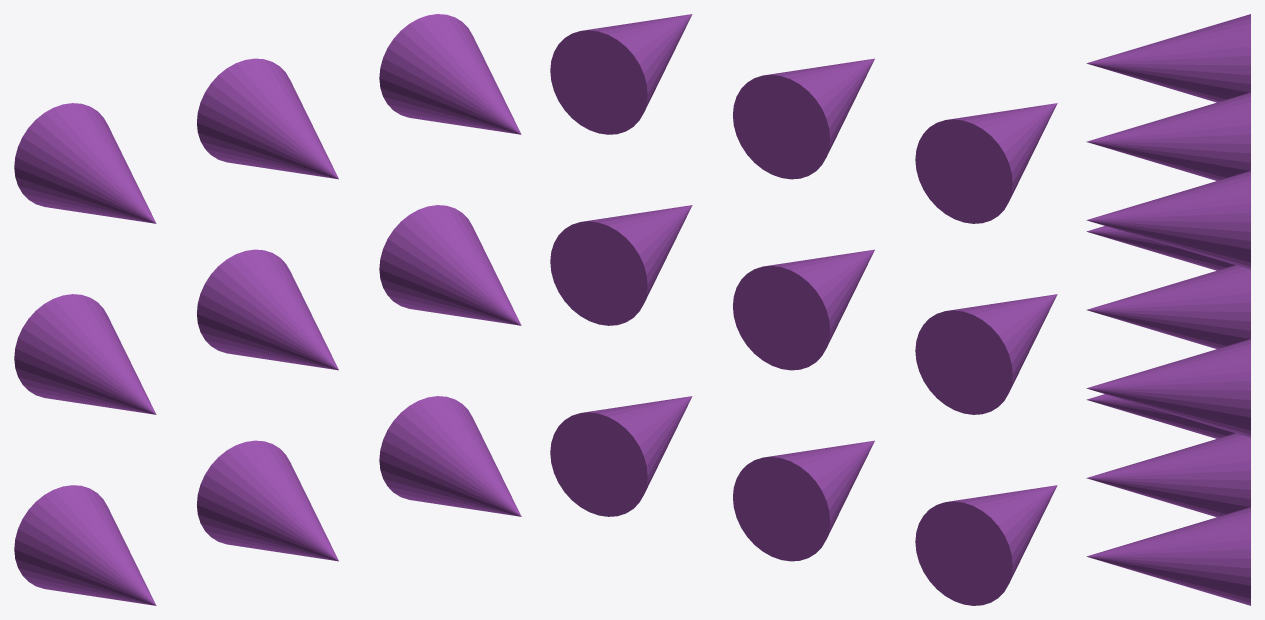
Rendered from brinjal_grid.glb.
3 views of the same model, side by side, from view 1: azimuth 30°, elevation 25°; view 2: azimuth 150°, elevation 25°; view 3: azimuth 270°, elevation 25° (orthographic). The views are drawn at different scales.
Parts seen in each view (by area): view 1: geometry_3, geometry_8, geometry_6, geometry_7, geometry_0, geometry_1, geometry_2, geometry_4, geometry_5; view 2: geometry_0, geometry_5, geometry_1, geometry_2, geometry_7, geometry_8, geometry_4, geometry_6, geometry_3; view 3: geometry_6, geometry_7, geometry_8, geometry_2, geometry_5, geometry_3, geometry_4, geometry_0, geometry_1.
Boxes of the visible parts, x1,y1,x2,y2 form: geometry_3: (197,440,338,561); geometry_8: (379,14,521,134); geometry_6: (379,396,521,516); geometry_7: (379,205,521,325); geometry_0: (14,485,156,605); geometry_1: (14,294,156,414); geometry_2: (14,103,156,223); geometry_4: (197,249,338,370); geometry_5: (197,58,338,179); geometry_0: (915,485,1057,605); geometry_5: (733,58,874,179); geometry_1: (915,294,1057,414); geometry_2: (915,103,1057,223); geometry_7: (550,205,692,325); geometry_8: (550,14,692,134); geometry_4: (733,249,874,370); geometry_6: (550,396,692,516); geometry_3: (733,440,874,561); geometry_6: (1086,507,1250,605); geometry_7: (1086,339,1250,437); geometry_8: (1086,171,1250,269); geometry_2: (1086,14,1250,102); geometry_5: (1086,92,1250,180); geometry_3: (1086,433,1250,517); geometry_4: (1087,265,1250,348); geometry_0: (1086,394,1234,438); geometry_1: (1086,226,1235,270).
Bounding box in the file's own units: 1.14 × 1.14 × 0.4.
